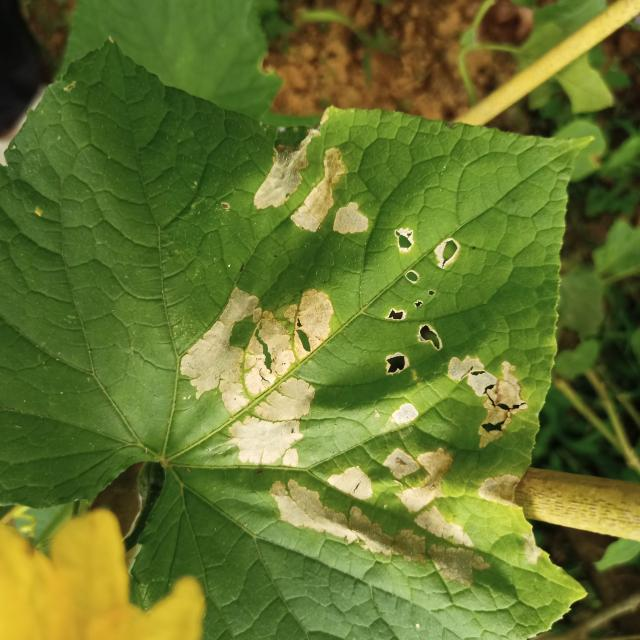disease_cucumber: (178, 123, 528, 593)
